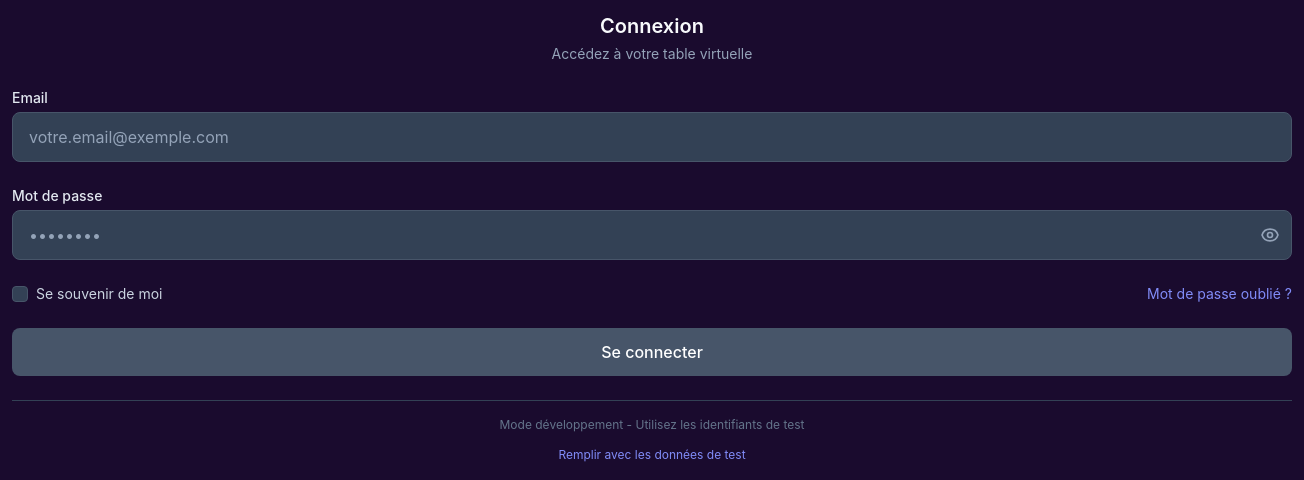
Test: LoginForm.vue › should fill test credentials when button clicked
Click the button "Remplir avec les données de test".
click(652, 455)  # box top-left (558, 447), bottom-right (746, 463)
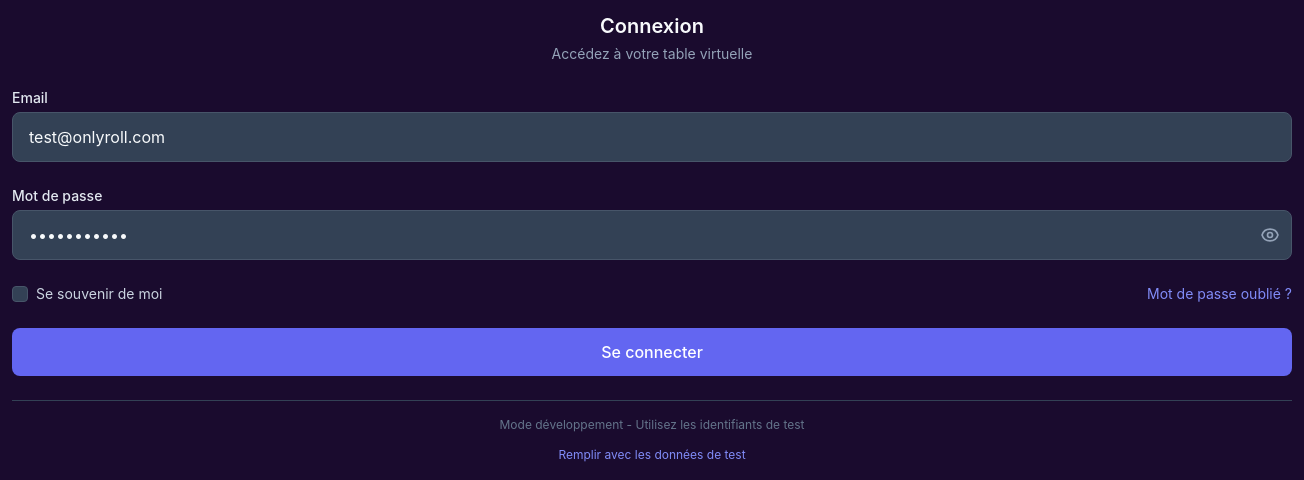
Result: the field with id "email" holds "test@onlyroll.com" at top-left (12, 112), bottom-right (1292, 162)
Result: the password field labelled "Mot de passe" holds "password123" at top-left (12, 210), bottom-right (1292, 260)
